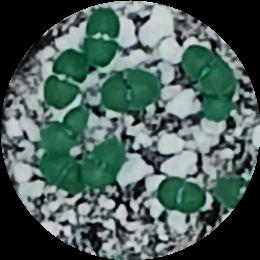Basil: (175, 40, 230, 92), (96, 70, 161, 113), (41, 50, 87, 110), (33, 155, 91, 195), (84, 7, 123, 65), (83, 143, 129, 188), (44, 108, 87, 155), (157, 178, 212, 210), (202, 67, 232, 123), (217, 173, 246, 211)
